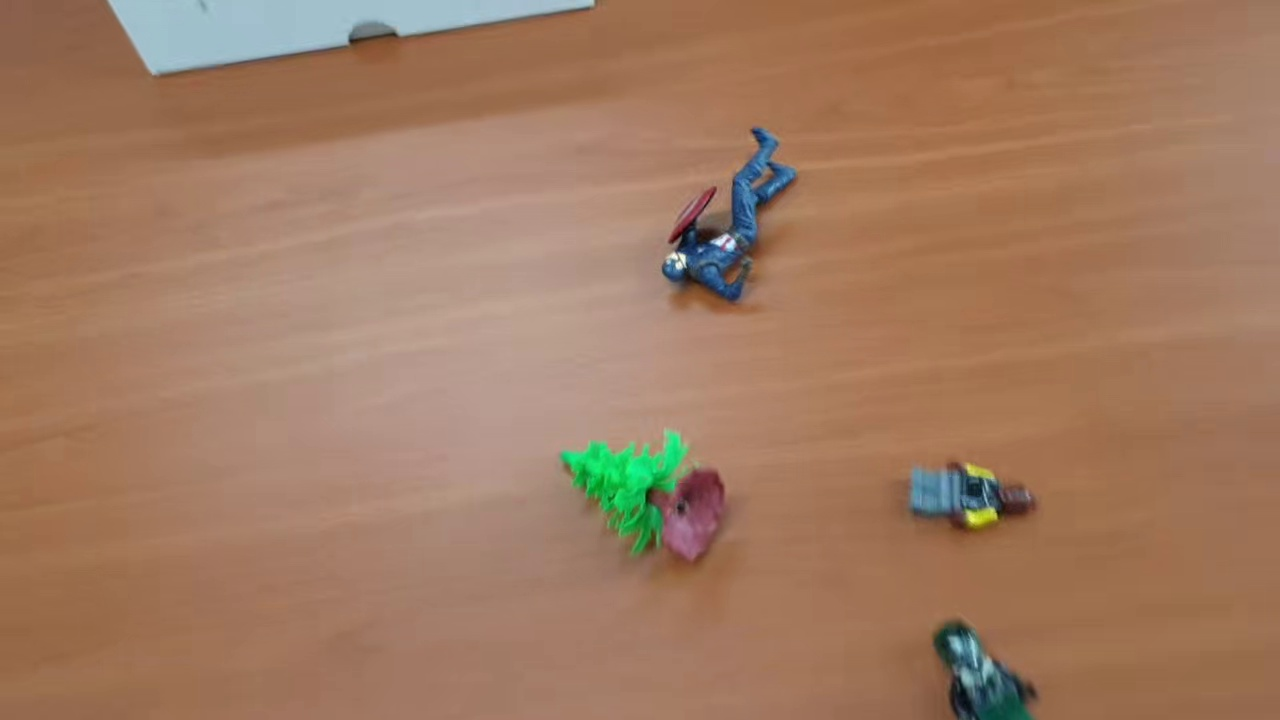people: (663, 130, 800, 302), (931, 616, 1042, 720), (903, 454, 1041, 531)
tree: (556, 426, 732, 573)
